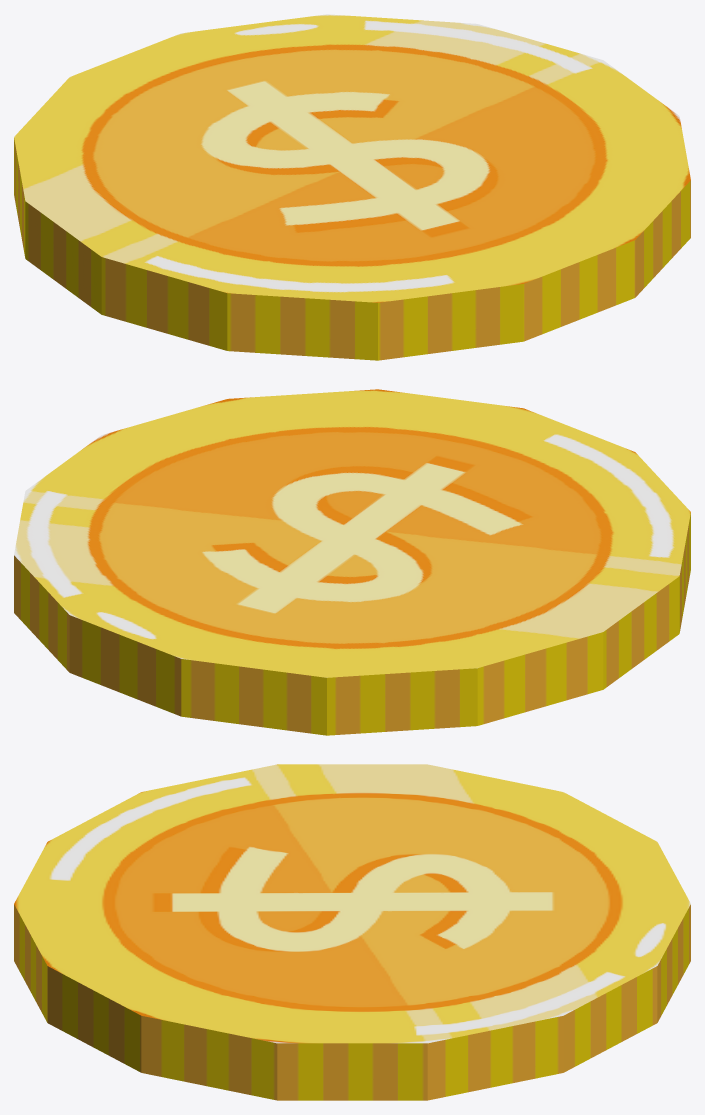
The model's file is MADENIPARA.fbx.
3 views of the same model, one above another, from view 1: azimuth 30°, elevation 25°; view 2: azimuth 150°, elevation 25°; view 3: azimuth 270°, elevation 25° (orthographic).
Visible parts, largest first — view 1: Cylinder; view 2: Cylinder; view 3: Cylinder.
Boxes of the visible parts, left/top/right/bottom form: Cylinder: left=14, top=14, right=690, bottom=360; Cylinder: left=14, top=389, right=690, bottom=735; Cylinder: left=14, top=764, right=690, bottom=1100.
Bounding box in the file's own units: 195 × 200 × 18.64.
